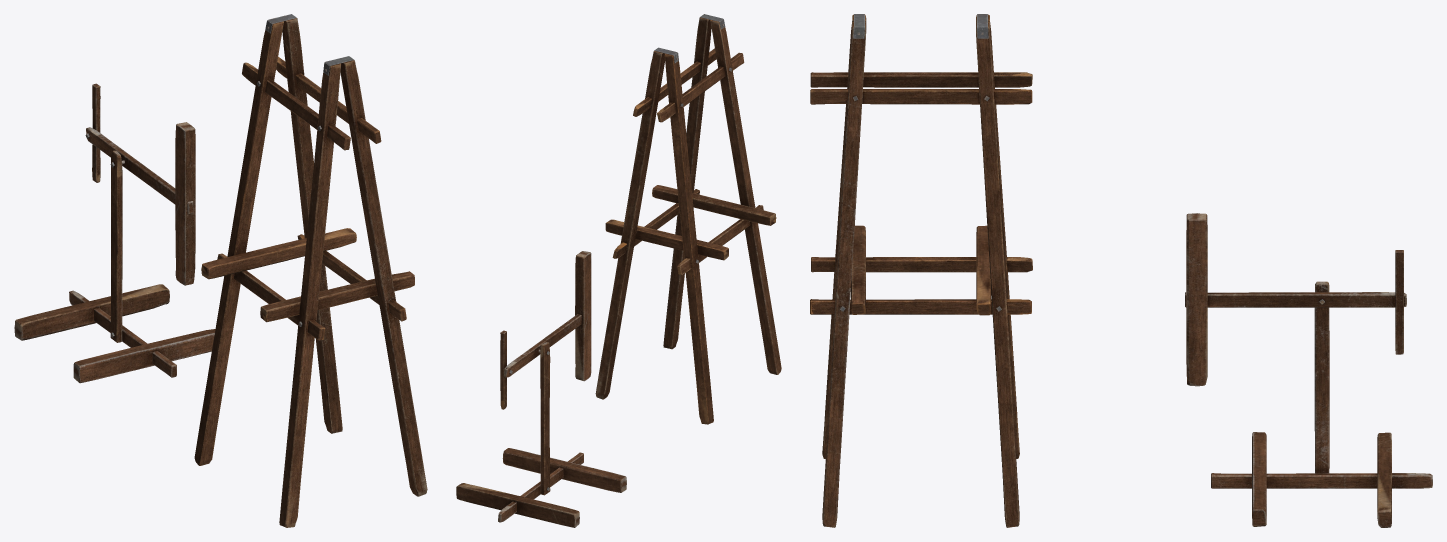
The model's file is stand.glb.
3 renders of one model, left to right at view 1: azimuth 30°, elevation 25°; view 2: azimuth 150°, elevation 25°; view 3: azimuth 270°, elevation 25°, orthographic. The views are drawn at different scales.
Visible parts, largest first — view 1: wood5_low, wood1_low, wood7_low, wood6_low, swingingSupportUV:counterWeight_low, swingingSupportUV:basewoodL_low, swingingSupportUV:basewoodR_low, wood4_low, swingingSupportUV:wood_low, wood3_low, wood10_low, swingingSupportUV:swingingWood_low (+5 smaller); view 2: wood1_low, wood5_low, wood6_low, wood7_low, swingingSupportUV:basewoodL_low, swingingSupportUV:counterWeight_low, swingingSupportUV:basewoodR_low, wood3_low, swingingSupportUV:wood_low, wood4_low, wood10_low, swingingSupportUV:swingingWood_low (+5 smaller); view 3: wood7_low, wood6_low, swingingSupportUV:counterWeight_low, swingingSupportUV:basewood_low, swingingSupportUV:swingingWood_low, wood9_low, wood10_low, swingingSupportUV:wood_low, wood8_low, wood2_low, swingingSupportUV:basewoodL_low, swingingSupportUV:basewoodR_low (+5 smaller).
Boxes of the visible parts, x1,y1,x2,y2 form: wood5_low: (279, 63, 340, 527); wood1_low: (194, 21, 283, 465); wood7_low: (340, 60, 427, 496); wood6_low: (282, 18, 342, 433); swingingSupportUV:counterWeight_low: (175, 122, 195, 285); swingingSupportUV:basewoodL_low: (14, 284, 169, 340); swingingSupportUV:basewoodR_low: (73, 329, 215, 383); wood4_low: (201, 228, 356, 279); swingingSupportUV:wood_low: (110, 150, 122, 342); wood3_low: (260, 271, 414, 322); wood10_low: (242, 62, 350, 150); swingingSupportUV:swingingWood_low: (86, 127, 193, 214); wood1_low: (664, 53, 713, 424); wood5_low: (710, 20, 781, 374); wood6_low: (595, 51, 664, 399); wood7_low: (663, 17, 711, 349); swingingSupportUV:basewoodL_low: (456, 483, 579, 527); swingingSupportUV:counterWeight_low: (575, 251, 591, 381); swingingSupportUV:basewoodR_low: (502, 448, 626, 492); wood3_low: (652, 185, 776, 225); swingingSupportUV:wood_low: (540, 342, 550, 495); wood4_low: (605, 219, 728, 260); wood10_low: (657, 52, 744, 122); swingingSupportUV:swingingWood_low: (503, 314, 581, 377); wood7_low: (822, 22, 866, 527); wood6_low: (976, 21, 1019, 527); swingingSupportUV:counterWeight_low: (1186, 213, 1207, 386); swingingSupportUV:basewood_low: (1211, 473, 1432, 488); swingingSupportUV:swingingWood_low: (1185, 292, 1406, 307); wood9_low: (810, 89, 1032, 104); wood10_low: (810, 72, 1032, 87); swingingSupportUV:wood_low: (1314, 281, 1329, 473); wood8_low: (810, 299, 1031, 314); wood2_low: (811, 257, 1032, 272); swingingSupportUV:basewoodL_low: (1377, 432, 1391, 527); swingingSupportUV:basewoodR_low: (1252, 432, 1266, 526).
Size of the model in its own units: 0.7111 by 2 by 2.4.
Materials: 1 (1 with a texture image).
